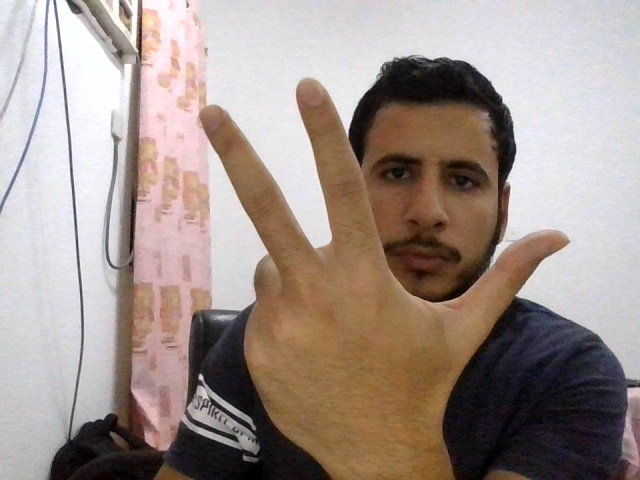Three: (198, 78, 573, 456)
